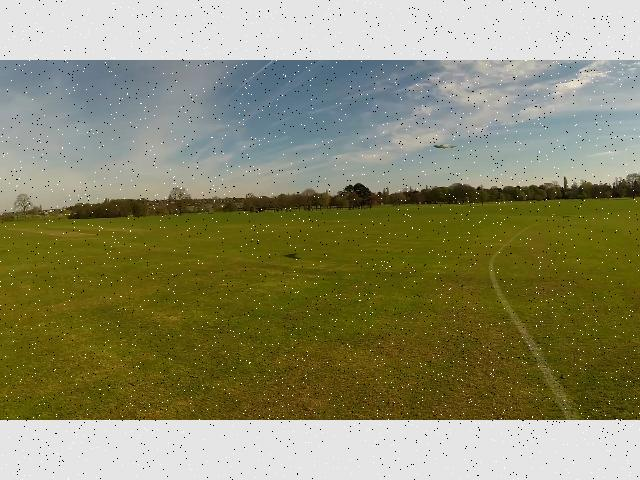Anti-Drone: (422, 135, 466, 161)
